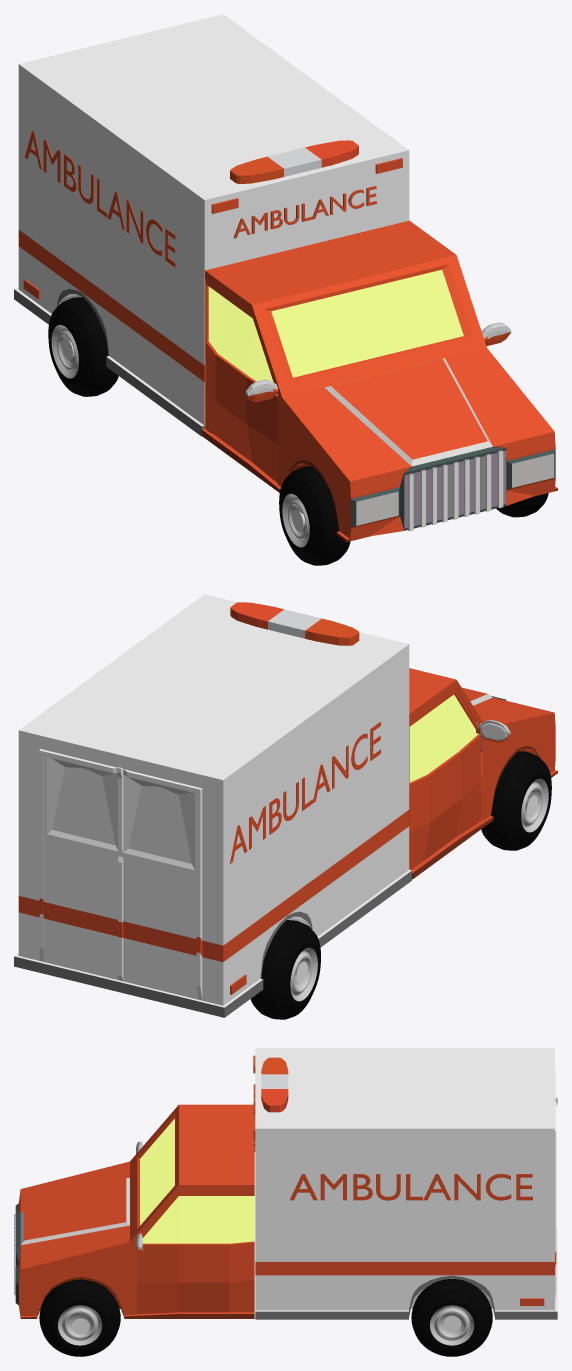
The model's file is hospital.glb.
3 views of the same model, one above another, from view 1: azimuth 30°, elevation 25°; view 2: azimuth 150°, elevation 25°; view 3: azimuth 270°, elevation 25° (orthographic). The views are drawn at different scales.
Parts seen in each view (by area): view 1: Torus.005; view 2: Torus.005; view 3: Torus.005.
Boxes of the visible parts, x1,y1,x2,y2 form: Torus.005: [14, 14, 557, 565]; Torus.005: [14, 594, 557, 1019]; Torus.005: [14, 1048, 557, 1356].
Bounding box in the file's own units: 1.23 × 1.3 × 2.73.
